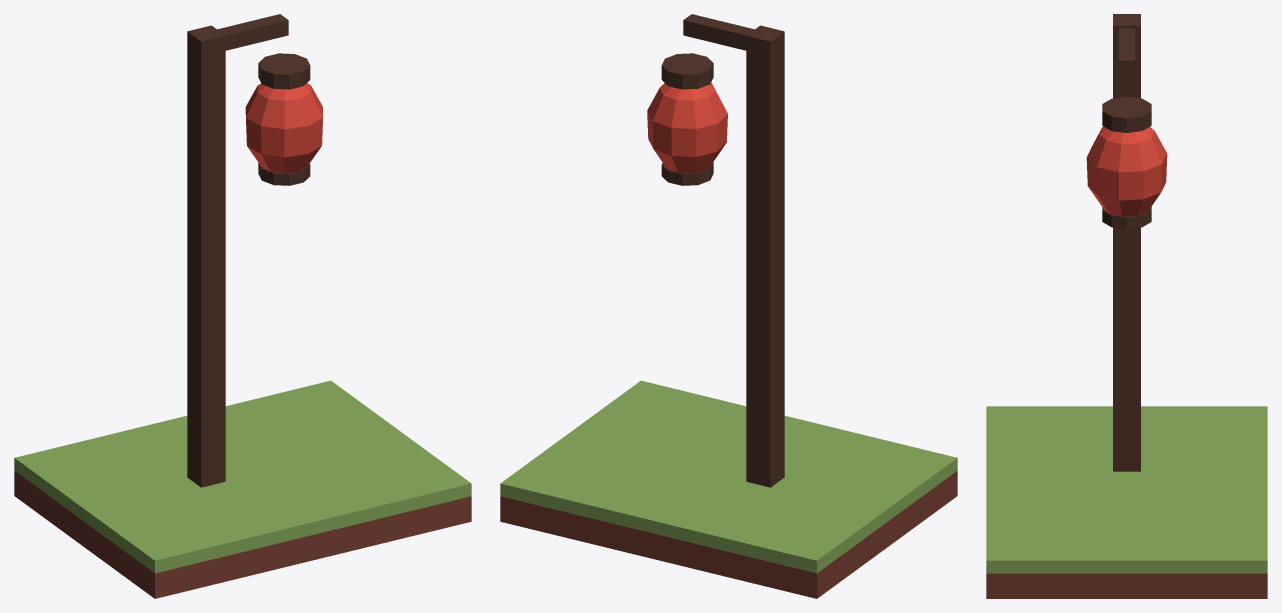
Rendered from paper-lantern.glb.
3 views of the same model, side by side, from view 1: azimuth 30°, elevation 25°; view 2: azimuth 150°, elevation 25°; view 3: azimuth 270°, elevation 25° (orthographic).
Parts seen in each view (by area): view 1: paper-lantern; view 2: paper-lantern; view 3: paper-lantern.
Boxes of the visible parts, <box> form: paper-lantern: <box>14,14,471,598</box>; paper-lantern: <box>500,14,957,598</box>; paper-lantern: <box>986,14,1267,598</box>.
Bounding box in the file's own units: 1.3 × 1.9 × 1.
